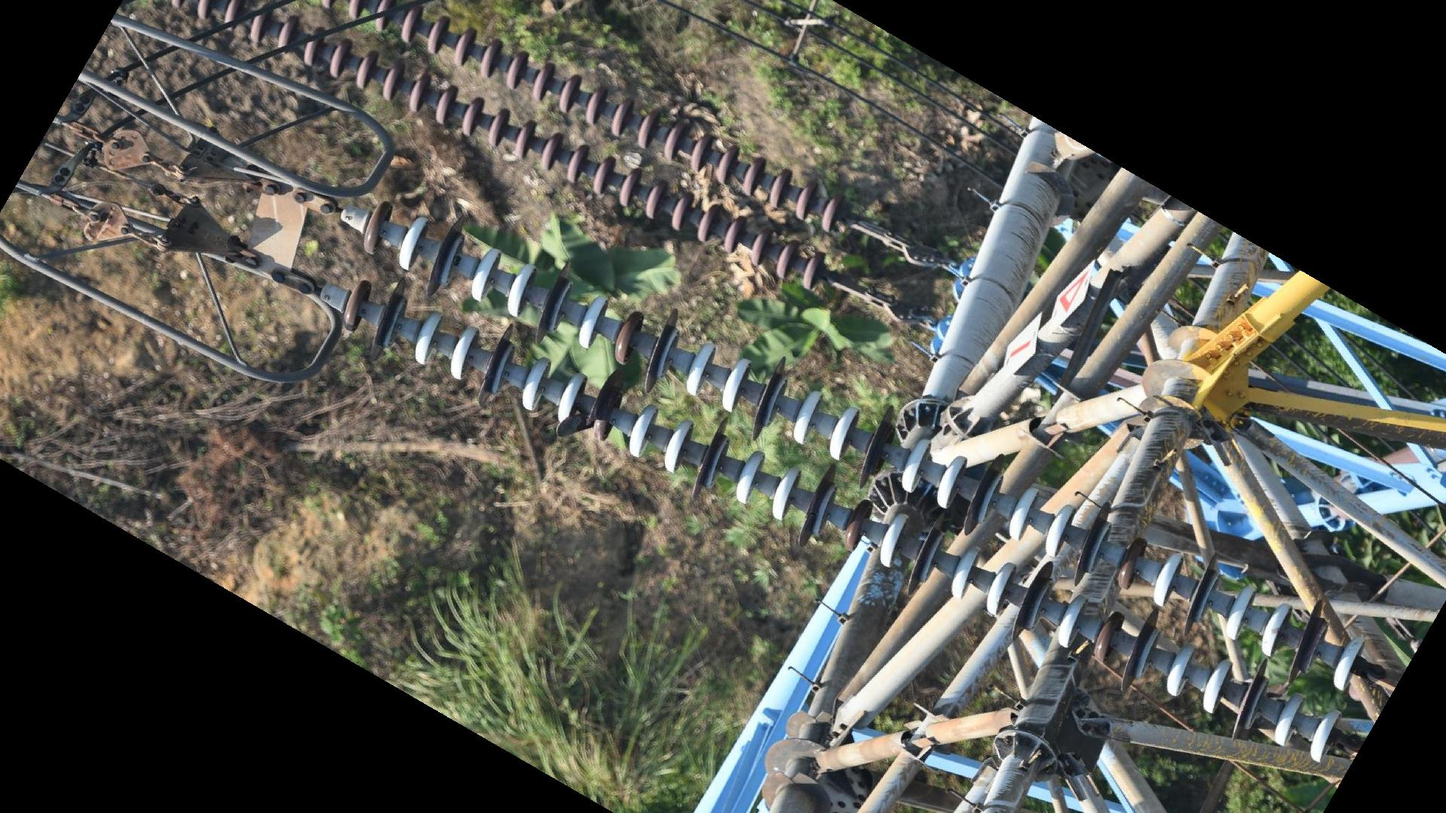insulator: (343, 197, 1377, 769), (163, 1, 858, 299)
